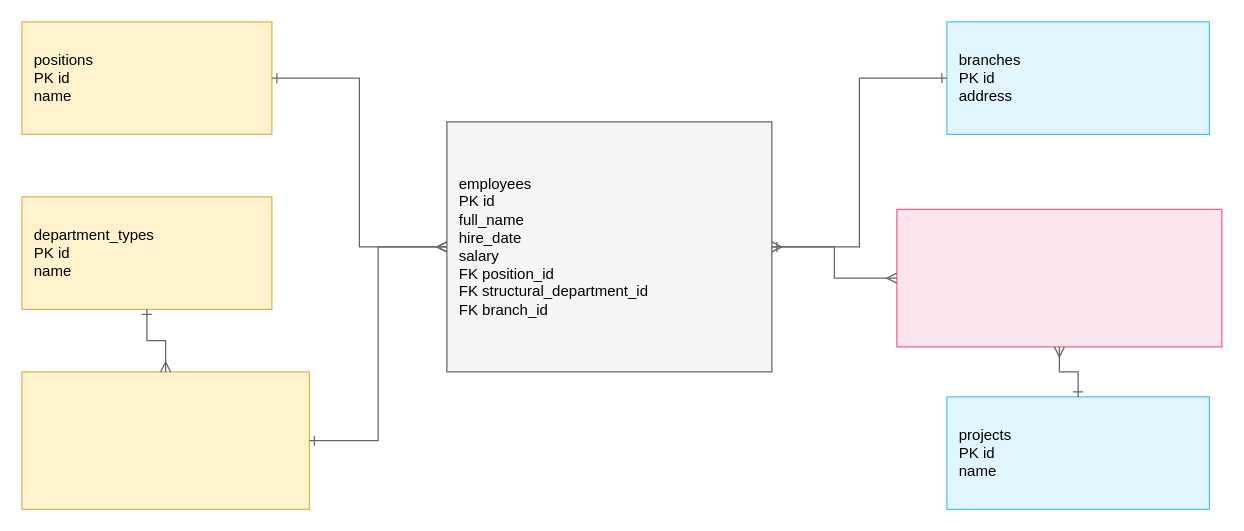
Some shapes in this 1244 by 531 pixel diagram are drawn without their labels. The centre of each missing label's shape, as x and y in pixels:
"employee_projects PK, FK employee_id PK, FK project_id" goes at point (1059, 277).
"structural_departments PK id name FK department_type_id" goes at point (165, 440).
